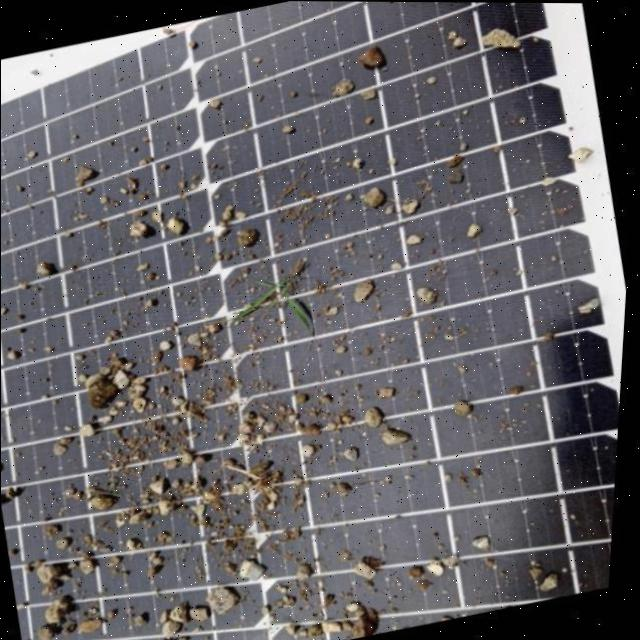Anomaly Solar Panel: (0, 0, 640, 640)
Surface Contaminant: (0, 1, 628, 640)
